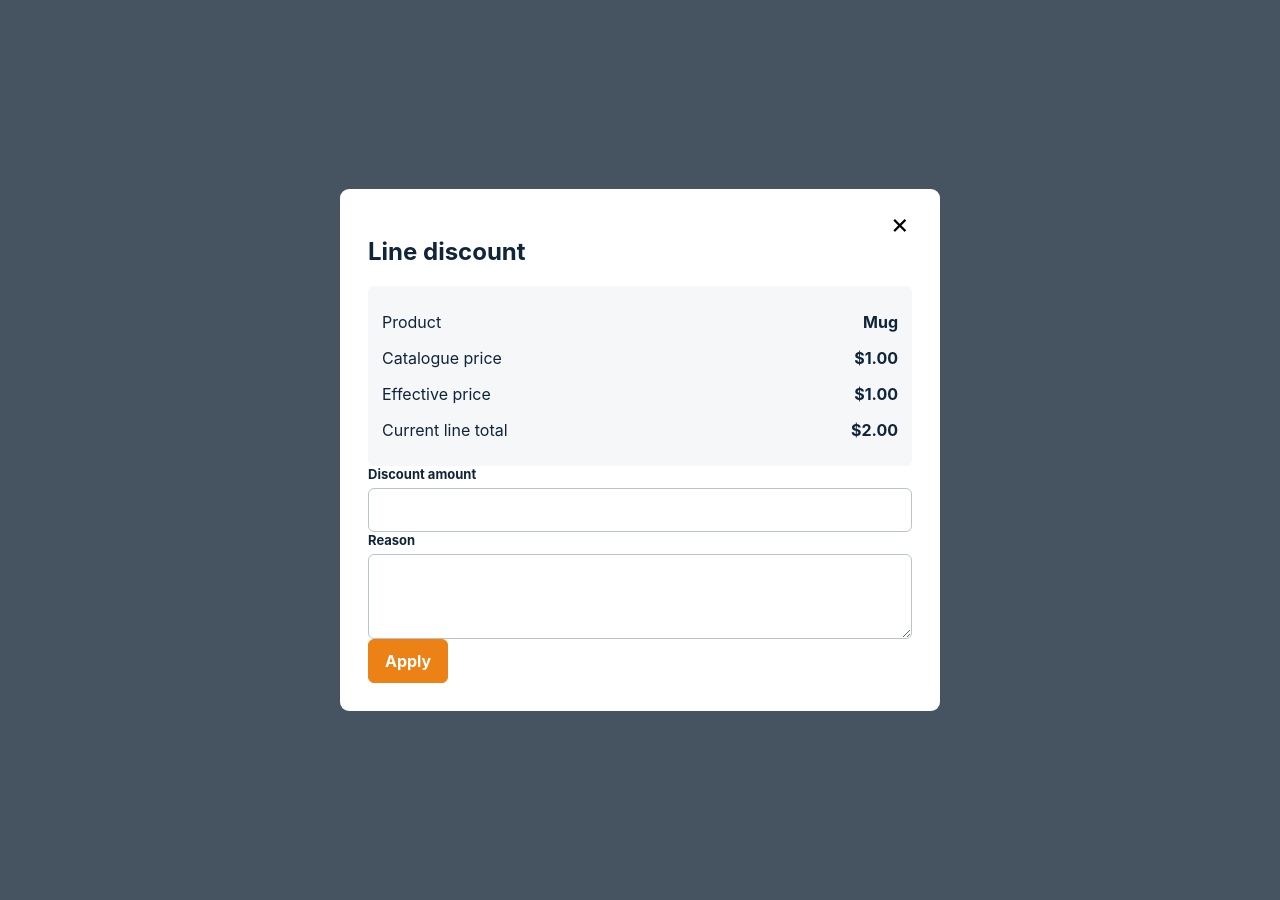
financial and management workflows › shows an approval dialog after backend rejects a teller discount
In the number field labelled "Discount amount": (640, 510) [368, 488, 912, 532], type "1"
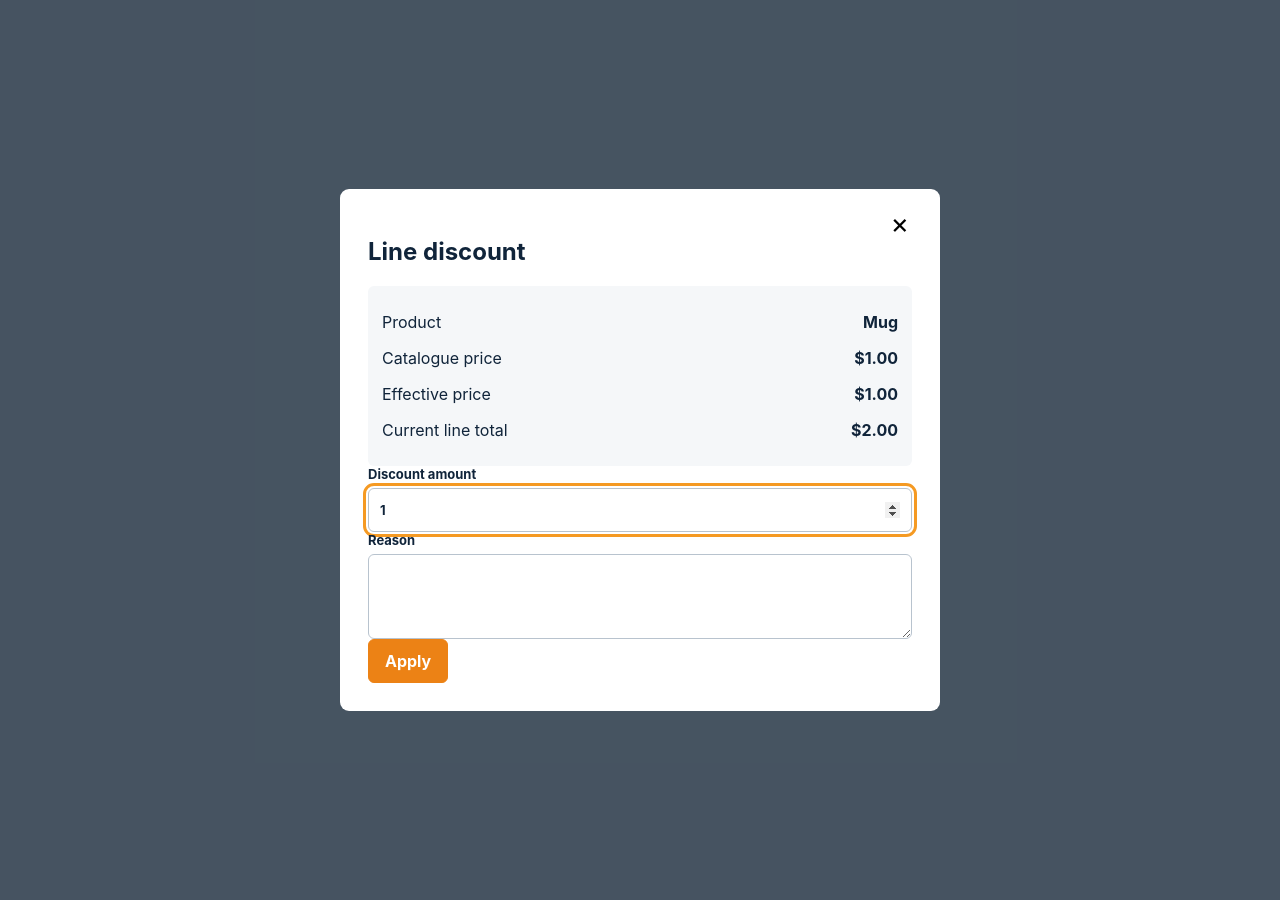
In the text box labelled "Reason": (640, 596) [368, 554, 912, 639], type "Promotion"
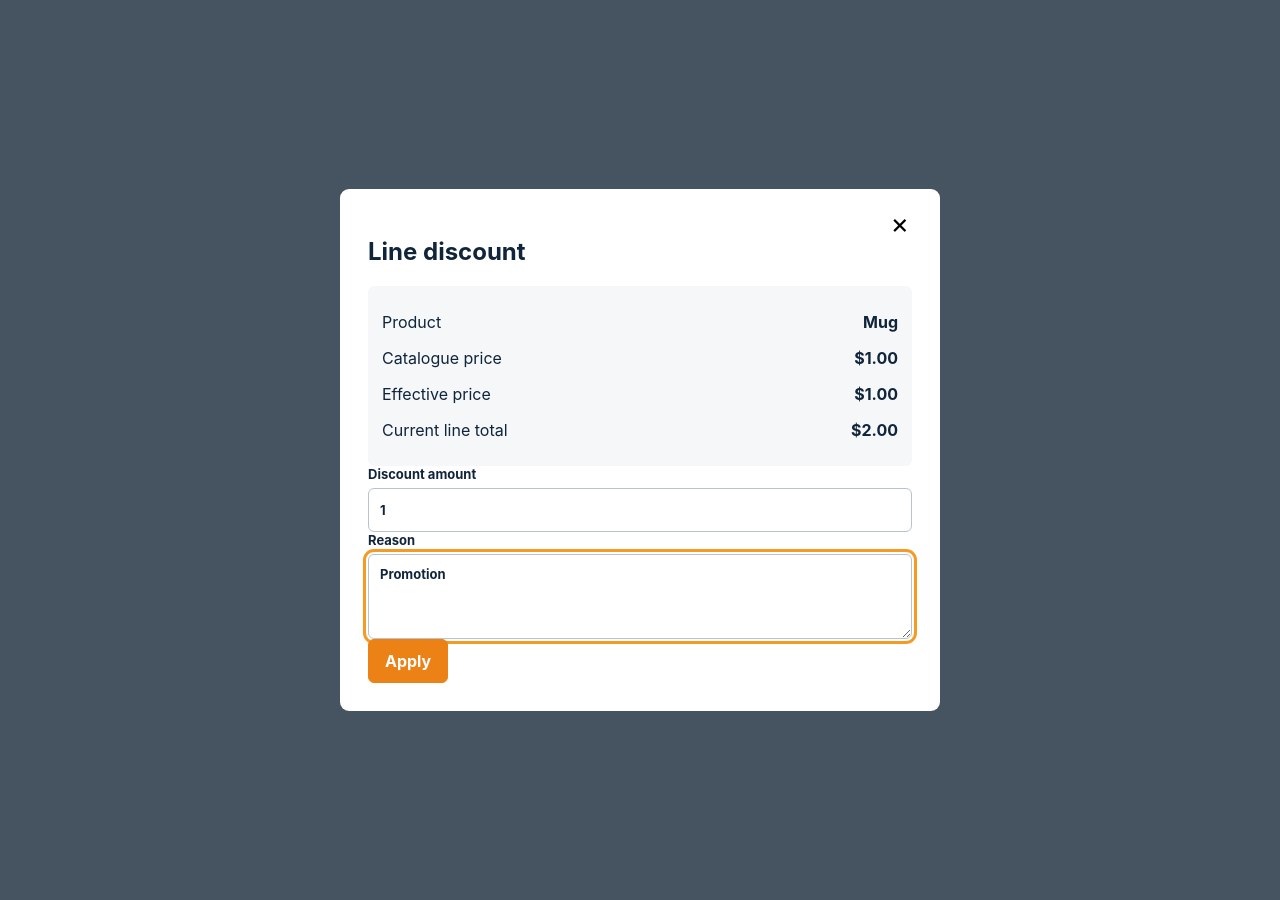
Click the button "Apply": (408, 661) [368, 639, 448, 683]
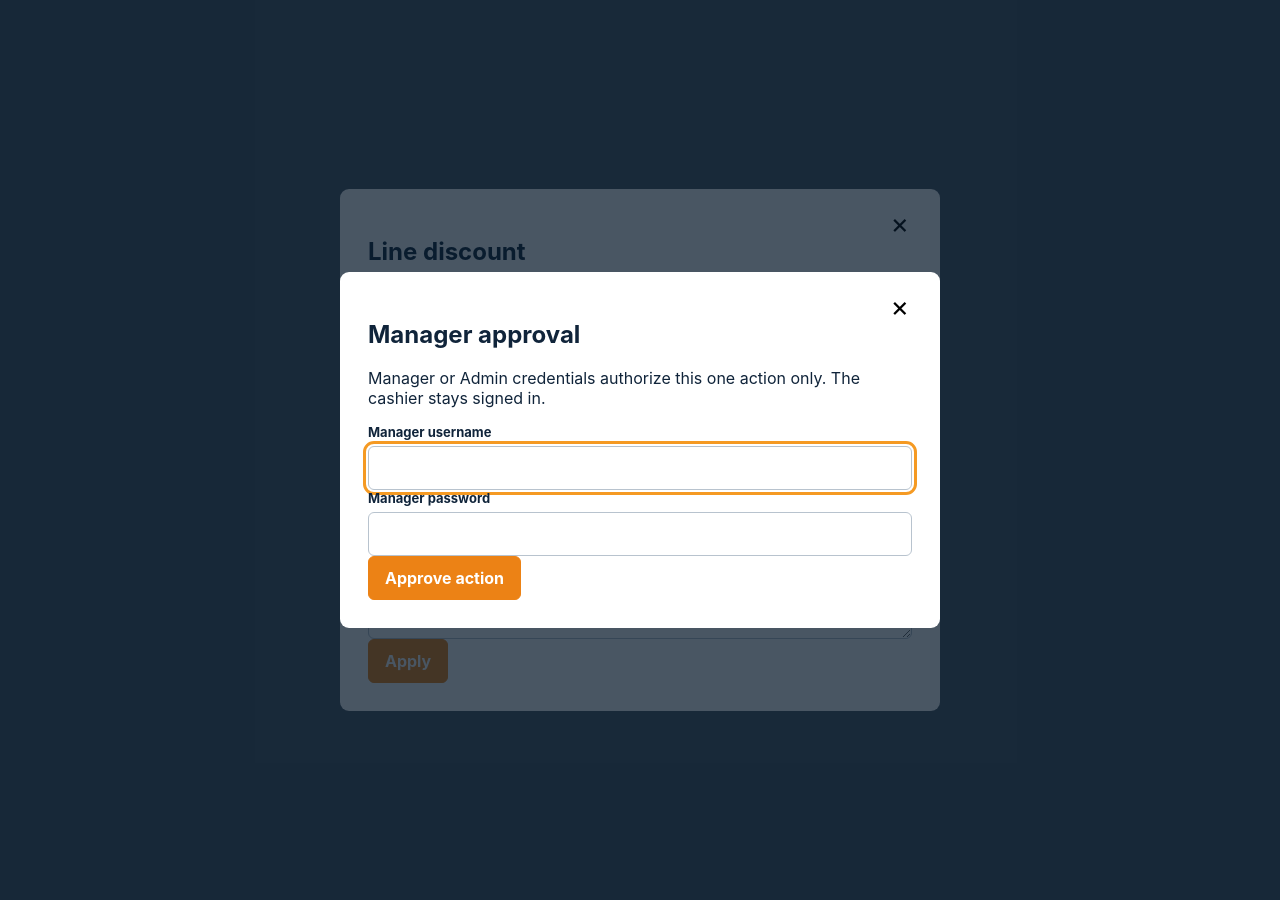
Check: the heading "Manager approval" is shown, box [368, 320, 580, 348]
